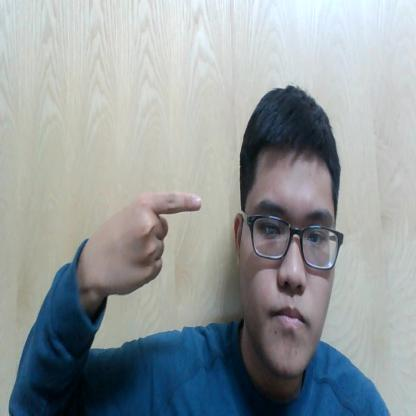left: (92, 177, 204, 308)
